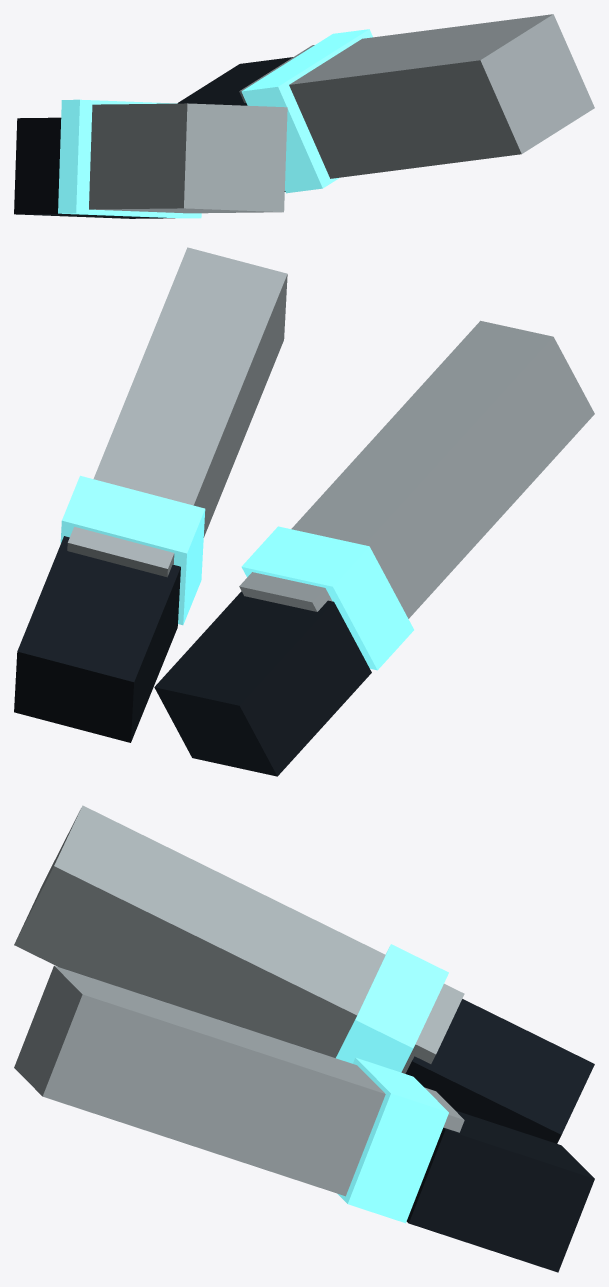
The model's file is np_z05_bras_scientifique.glb.
3 renders of one model, top to bottom at view 1: azimuth 30°, elevation 25°; view 2: azimuth 150°, elevation 25°; view 3: azimuth 270°, elevation 25°, orthographic. The views are drawn at different scales.
Parts seen in each view (by area): view 1: AvantBras2, AvantBras, Poignet2, Gant, Poignet, Gant2; view 2: AvantBras, AvantBras2, Gant, Gant2, Poignet, Poignet2; view 3: AvantBras, AvantBras2, Gant2, Gant, Poignet2, Poignet.
Boxes of the visible parts, x1,y1,x2,y2 form: AvantBras2: (239, 14, 594, 178); AvantBras: (89, 103, 287, 213); Poignet2: (241, 29, 372, 193); Gant: (14, 117, 174, 218); Poignet: (58, 99, 201, 218); Gant2: (177, 57, 292, 191); AvantBras: (239, 320, 594, 618); AvantBras2: (67, 247, 287, 577); Gant: (154, 591, 371, 776); Gant2: (14, 536, 180, 742); Poignet: (241, 526, 413, 670); Poignet2: (60, 475, 205, 625); AvantBras: (14, 805, 464, 1073); AvantBras2: (14, 965, 464, 1196); Gant2: (406, 1110, 594, 1272); Gant: (405, 999, 594, 1143); Poignet2: (337, 1057, 448, 1223); Poignet: (336, 944, 448, 1072).
Bounding box in the file's own units: 0.5424 × 0.3853 × 0.6272.
